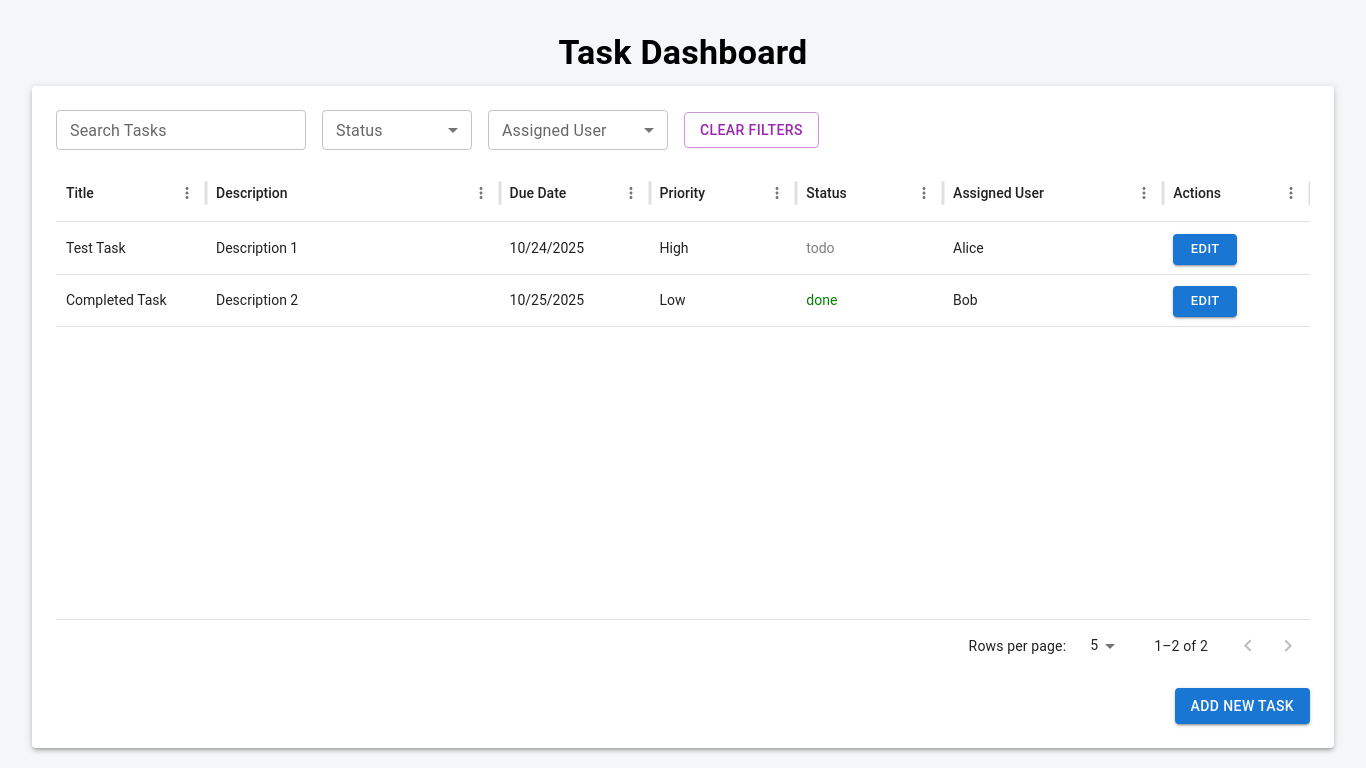
Test case: Dashboard Component › clears filters when Clear Filters button clicked
The image size is (1366, 768).
Check: the text "Test Task" is shown, box [66,240,126,256]
Step 1. Type "Completed" into the field with placeholder "Search by Title" → (181, 130), box [56,110,306,150]
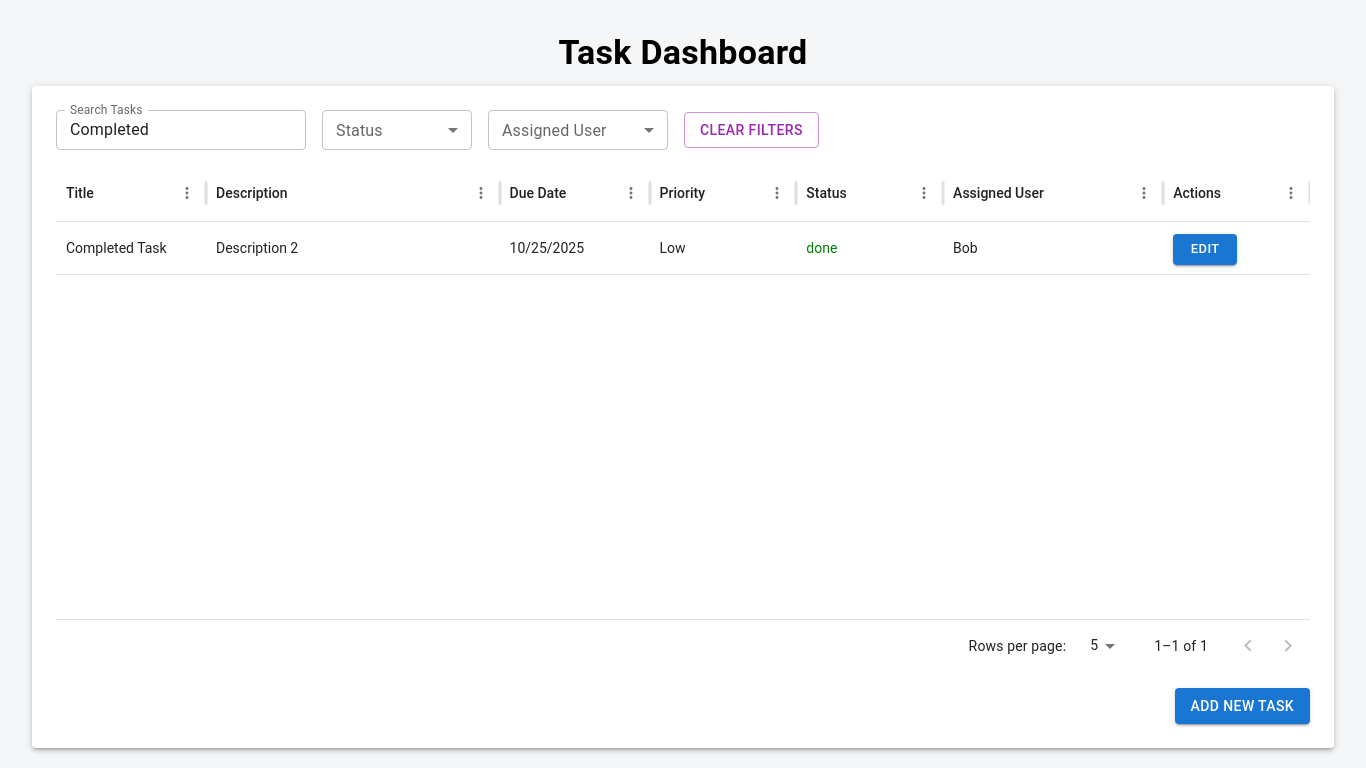
Check: the text "Test Task" is gone
Step 2. Click the button "Clear Filters" → (751, 130), box [684,112,819,148]
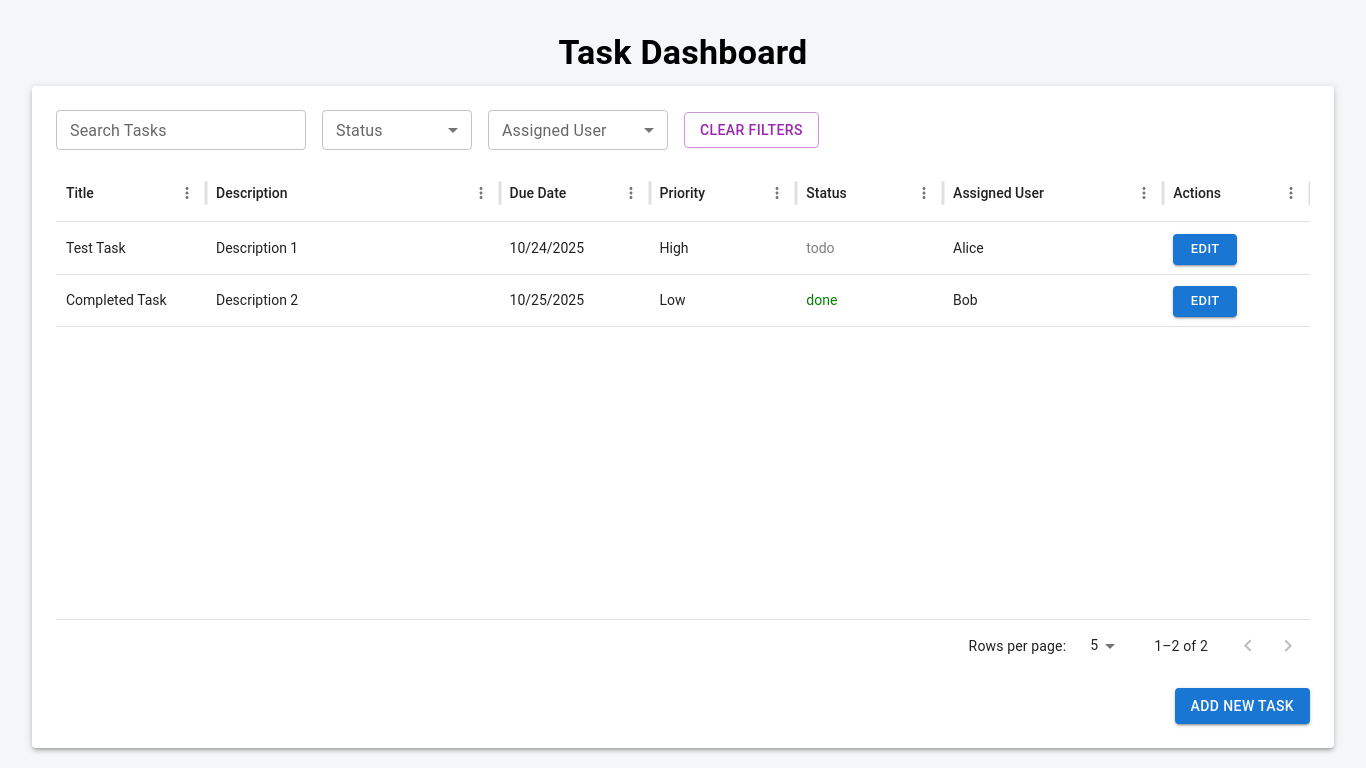
Check: the text "Completed Task" is shown, box [56,274,206,326]
Check: the text "Test Task" is shown, box [66,240,126,256]
